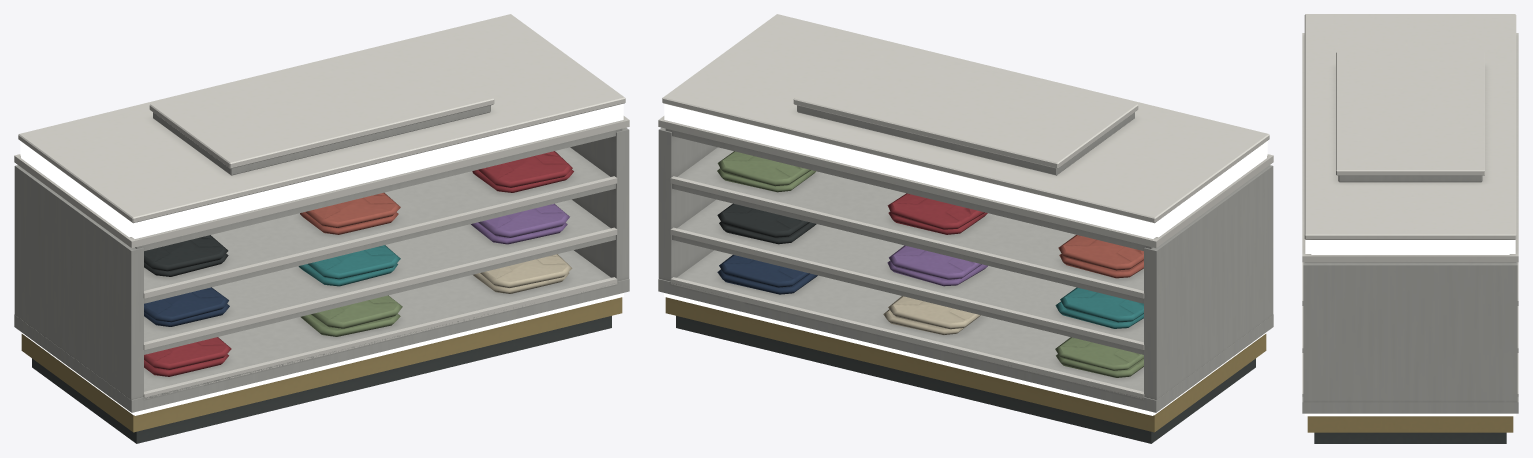
File: mall_merchandise_display.glb
3 views of the same model, side by side, from view 1: azimuth 30°, elevation 25°; view 2: azimuth 150°, elevation 25°; view 3: azimuth 270°, elevation 25° (orthographic). The views are drawn at different scales.
Visible parts, largest first — view 1: mall_merchandise_display_Body, Warm illuminated fascia; view 2: mall_merchandise_display_Body, Warm illuminated fascia; view 3: mall_merchandise_display_Body, Warm illuminated fascia.
Boxes of the visible parts, x1,y1,x2,y2 form: mall_merchandise_display_Body: (14,14,629,443); Warm illuminated fascia: (20,104,623,415); mall_merchandise_display_Body: (658,14,1273,443); Warm illuminated fascia: (664,104,1267,415); mall_merchandise_display_Body: (1302,14,1518,443); Warm illuminated fascia: (1304,240,1516,416).
Size of the model in its own units: 2.2 by 1.04 by 0.9.
Materials: 2 (1 with a texture image).
